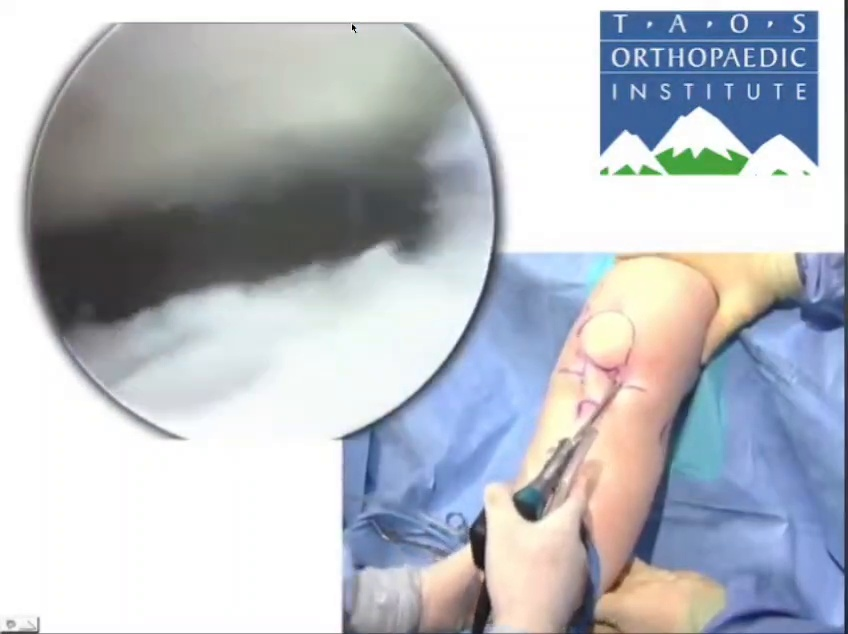arthroscope: (67, 230, 424, 461)
probe: (63, 0, 424, 192)
